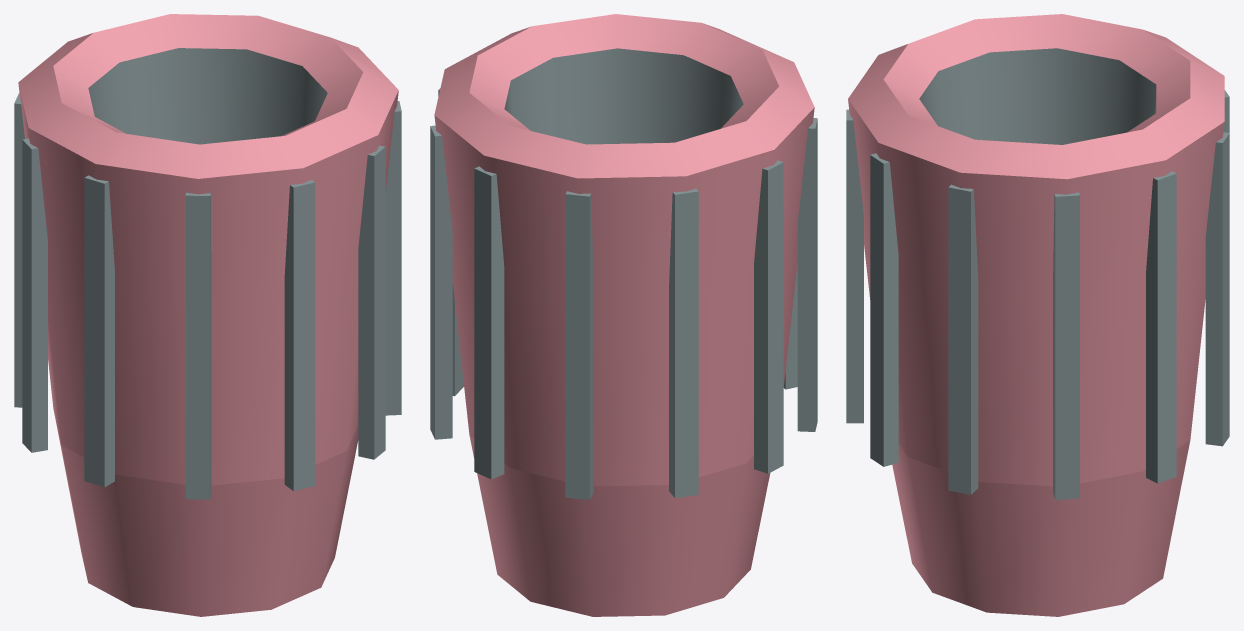
Rendered from sunken-city-and-underwater-ruins-barrel-sponge-da03ecfa__36990.glb.
The picture shows the model from 3 angles, left to right: view 1: azimuth 30°, elevation 25°; view 2: azimuth 150°, elevation 25°; view 3: azimuth 270°, elevation 25°; orthographic projection.
Parts seen in each view (by area): view 1: barrel-sponge; view 2: barrel-sponge; view 3: barrel-sponge.
Part boxes in pixels (x1,y1,x2,y2): barrel-sponge: [14, 14, 401, 616]; barrel-sponge: [430, 14, 817, 616]; barrel-sponge: [846, 14, 1229, 616].
Bounding box in the file's own units: 1.09 × 1.56 × 1.08.
